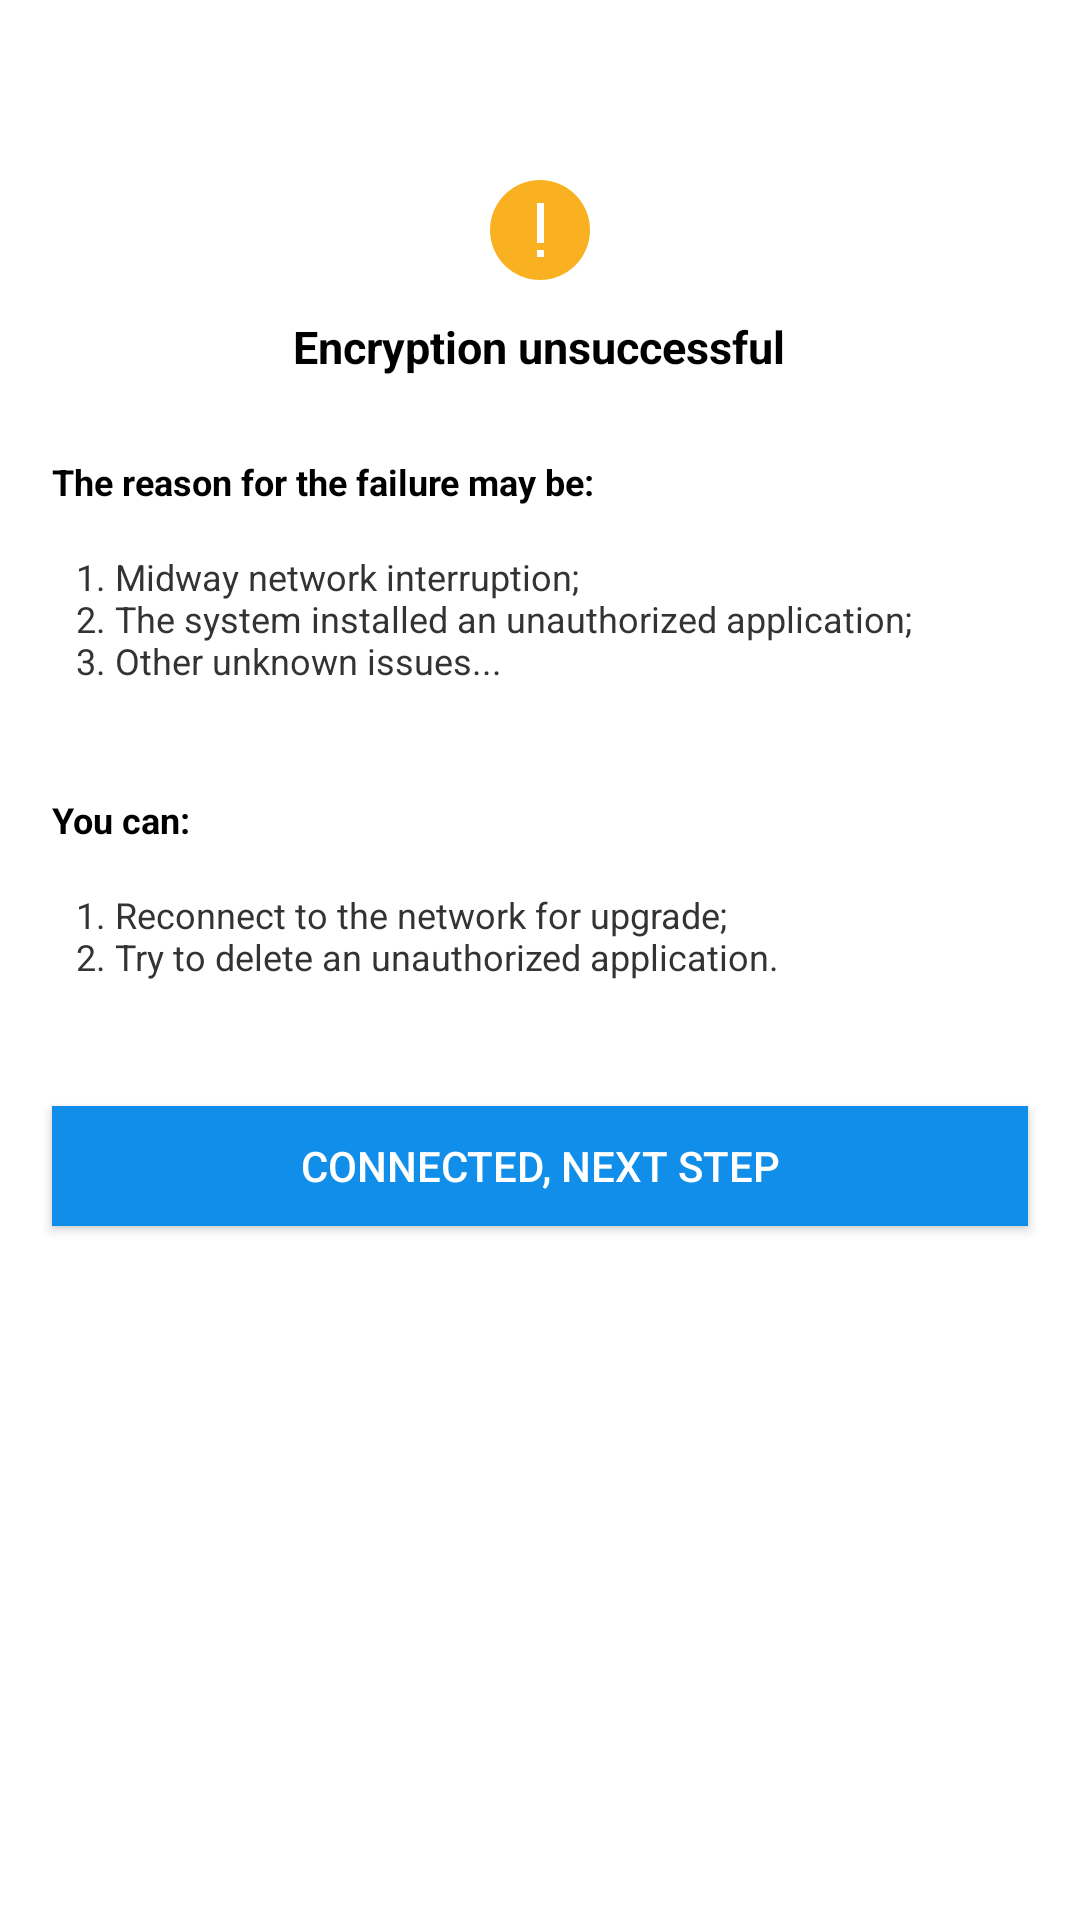

Icon click points for this 1080px x 1920px phone screenshot, format (x,y):
warning: (540,230)
